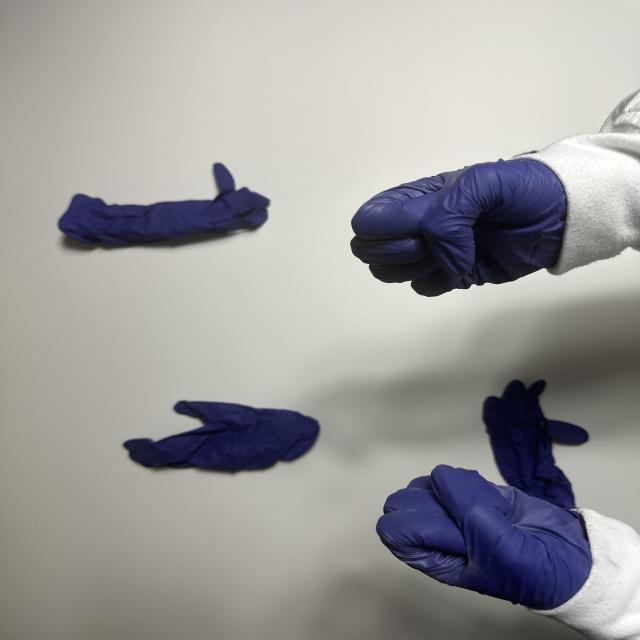gloves_contaminated: (377, 465, 591, 610), (351, 159, 568, 297)
